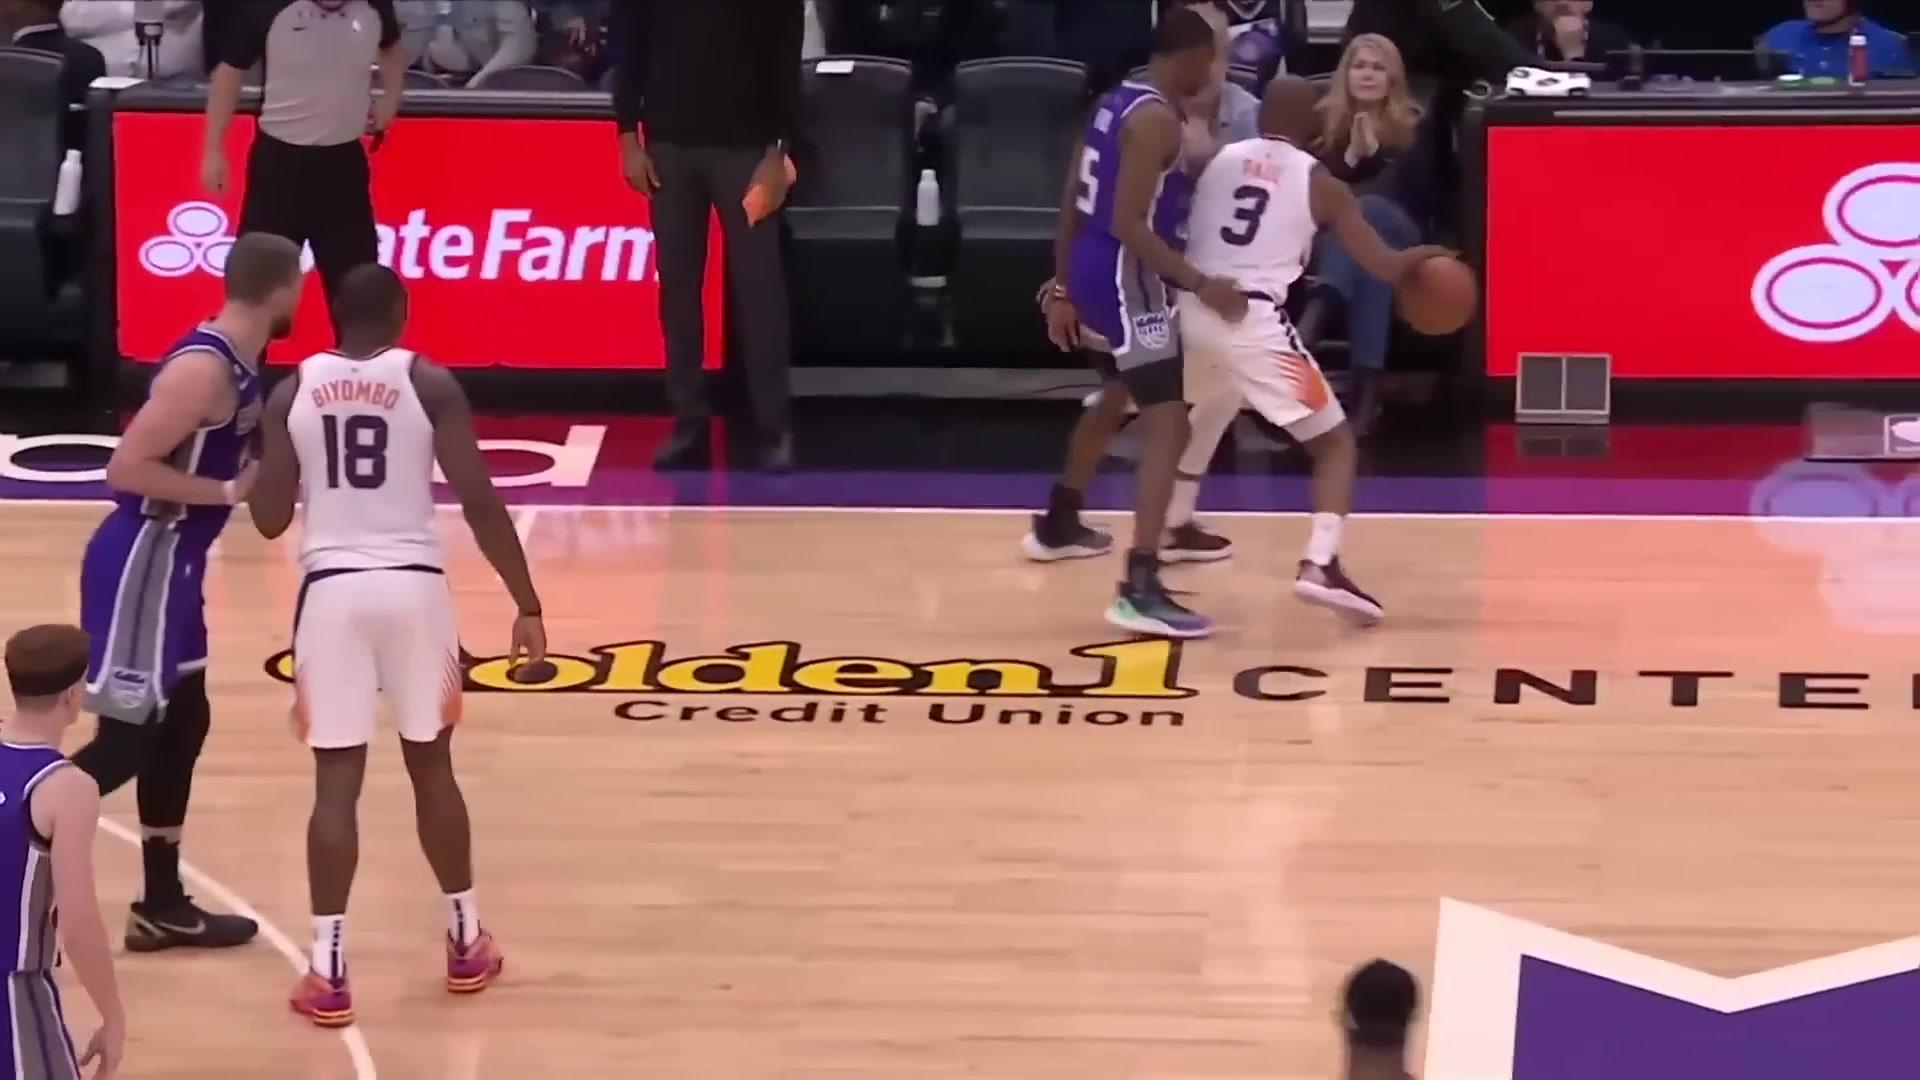no_foul: (1029, 9, 1489, 637)
